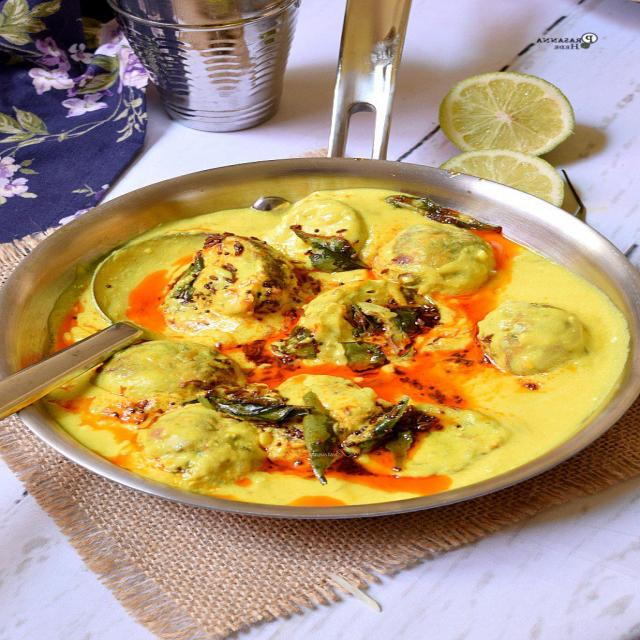Kadhi Pakora: (38, 186, 623, 508)
